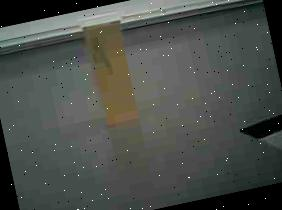Bottle A: (66, 1, 152, 136)
